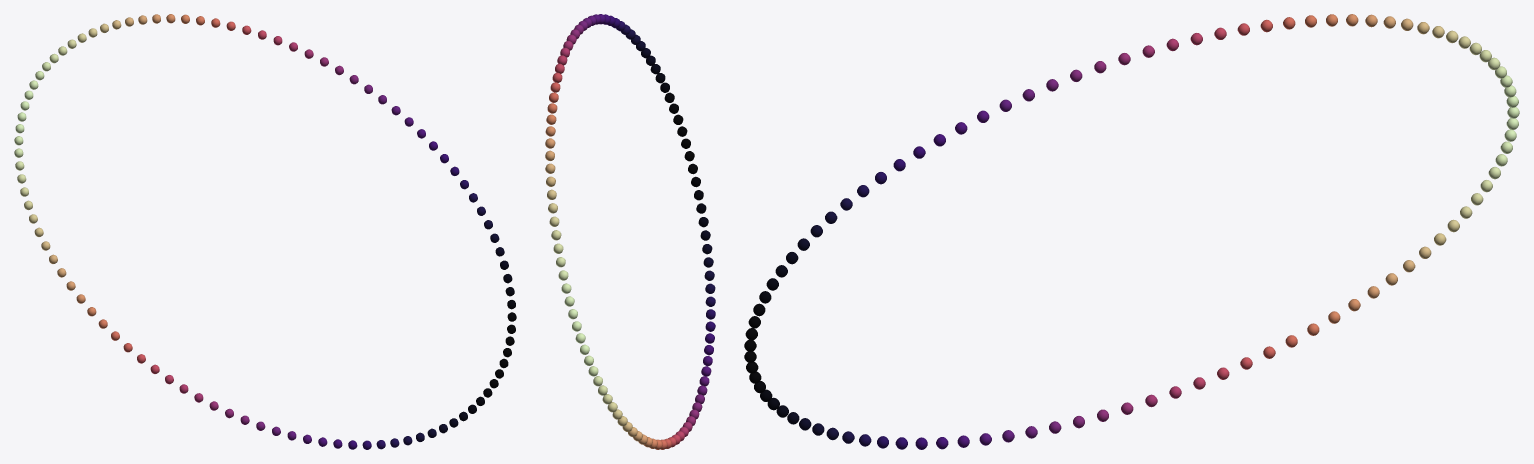
Rendered from ring_colormap.glb.
The picture shows the model from 3 angles, left to right: view 1: azimuth 30°, elevation 25°; view 2: azimuth 150°, elevation 25°; view 3: azimuth 270°, elevation 25°; orthographic projection. The views are drawn at different scales.
Parts seen in each view (by area): view 1: Renderer Node; view 2: Renderer Node; view 3: Renderer Node.
Boxes of the visible parts, left/top/right/bottom form: Renderer Node: left=14, top=14, right=516, bottom=449; Renderer Node: left=545, top=14, right=715, bottom=449; Renderer Node: left=744, top=14, right=1519, bottom=449.
Bounding box in the file's own units: 0.2779 × 0.393 × 0.618.
Materials: 1 (1 with a texture image).
